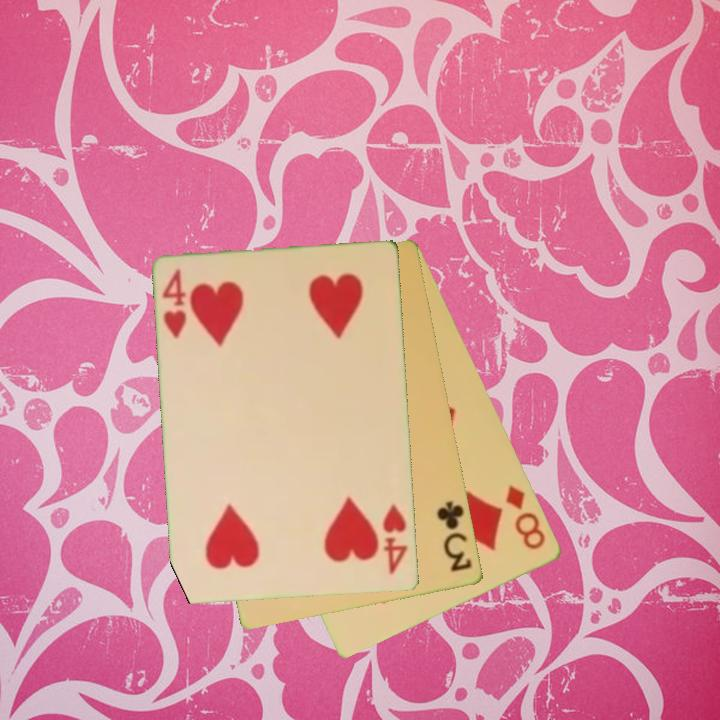3c: (434, 498, 475, 575)
4h: (379, 501, 411, 578), (159, 265, 190, 343)
8d: (502, 482, 549, 553)
